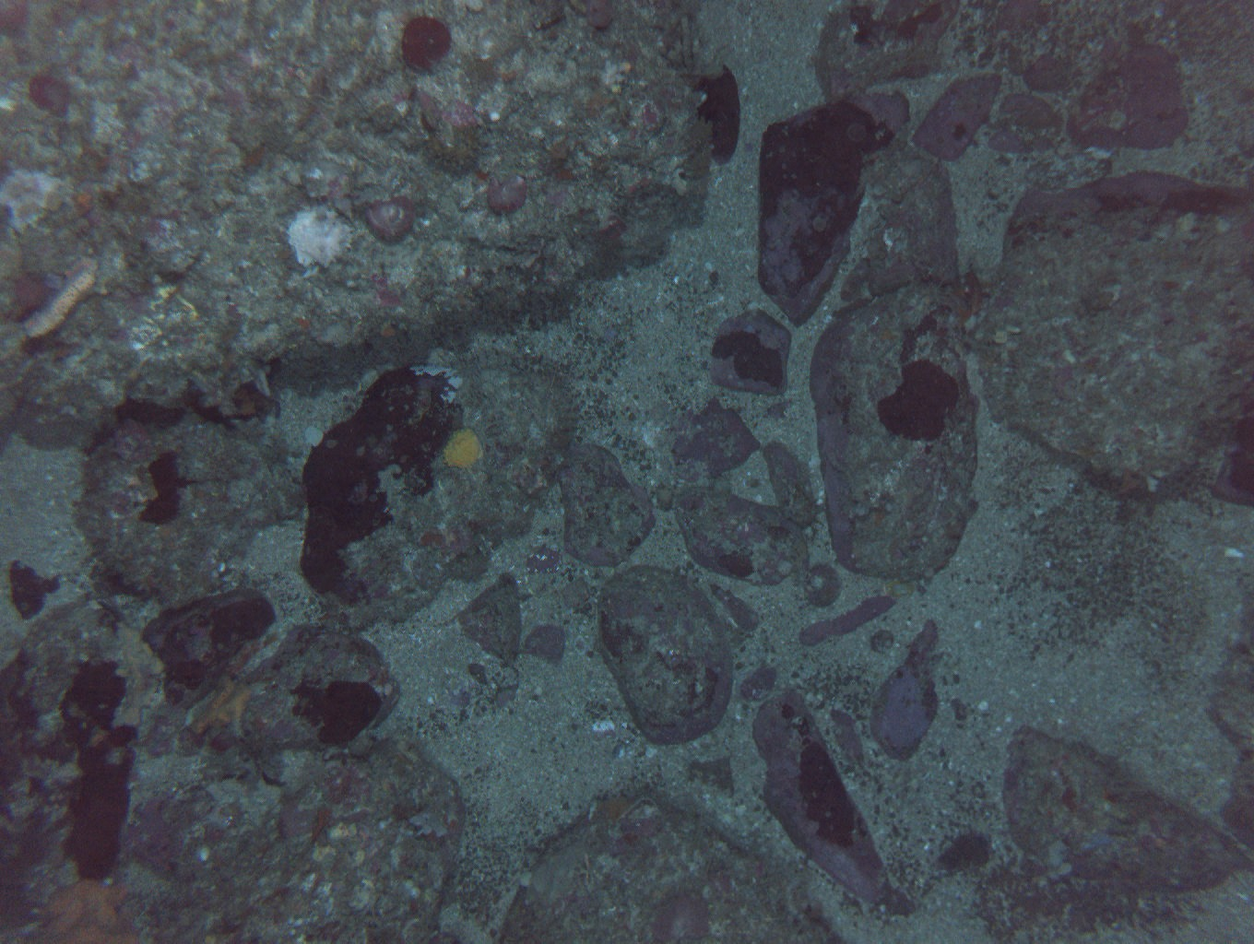Brachionichthyidae: (955, 266, 996, 325)
